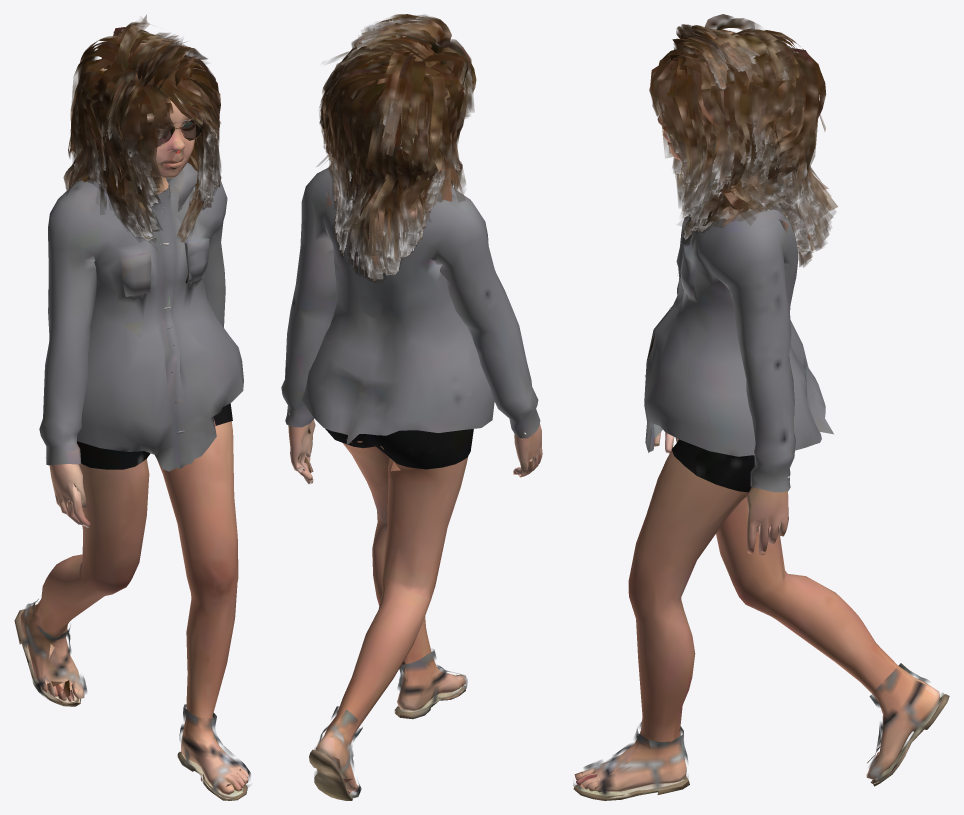
3 views of the same model, side by side, from view 1: azimuth 30°, elevation 25°; view 2: azimuth 150°, elevation 25°; view 3: azimuth 270°, elevation 25° (orthographic). The views are drawn at different scales.
Visible parts, largest first — view 1: p02135; view 2: p02135; view 3: p02135.
Boxes of the visible parts, box(x1,y1,x2,y2) form: p02135: box(14, 15, 250, 800); p02135: box(281, 14, 542, 800); p02135: box(573, 14, 949, 800).
Size of the model in its own units: 0.3774 by 1.23 by 0.5455.
1 material, 1 textured.
